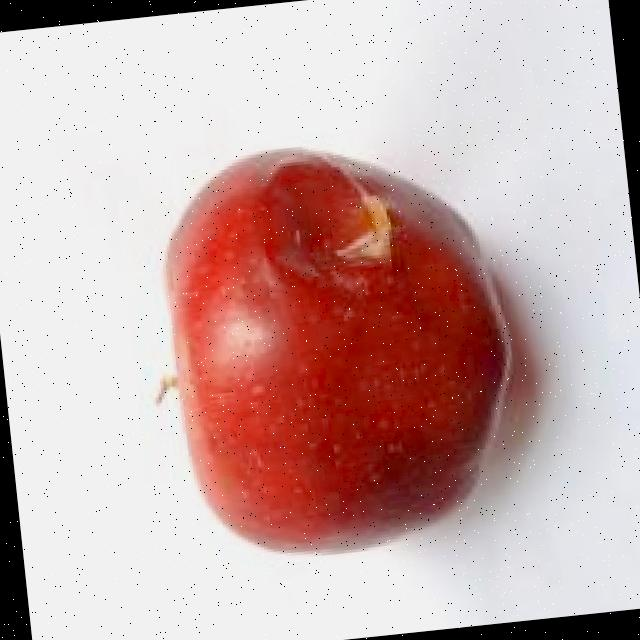rotten apple: (74, 92, 591, 613)
